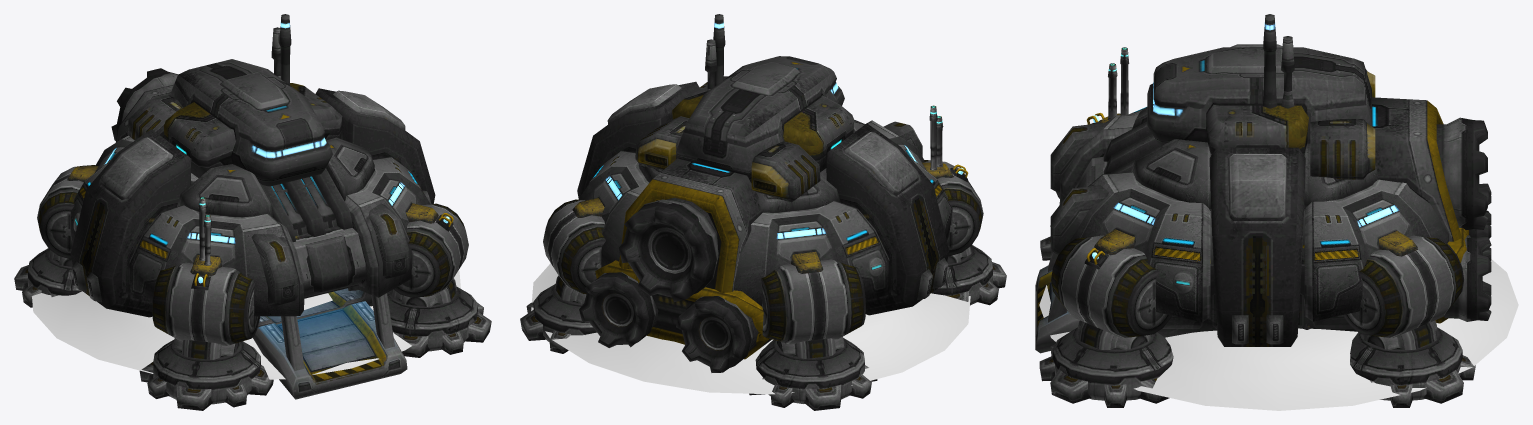
Rendered from CommandCenter_Umojan.glb.
3 renders of one model, left to right at view 1: azimuth 30°, elevation 25°; view 2: azimuth 150°, elevation 25°; view 3: azimuth 270°, elevation 25°, orthographic. The views are drawn at different scales.
Parts seen in each view (by area): view 1: Mesh.005, Sphere01distortion02, Mesh.002, Mesh.003; view 2: Mesh.005, Sphere01distortion02, Mesh.002; view 3: Mesh.005, Sphere01distortion02, Mesh.002.
Boxes of the visible parts, x1,y1,x2,y2 form: Mesh.005: [14, 14, 491, 410]; Sphere01distortion02: [32, 270, 460, 379]; Mesh.002: [198, 197, 211, 265]; Mesh.003: [191, 212, 453, 290]; Mesh.005: [520, 14, 1006, 410]; Sphere01distortion02: [531, 263, 970, 394]; Mesh.002: [929, 105, 943, 170]; Mesh.005: [1035, 14, 1491, 407]; Sphere01distortion02: [1039, 259, 1518, 410]; Mesh.002: [1107, 47, 1310, 329].
Size of the model in its own units: 5.61 by 4.06 by 5.41.
7 materials, 6 textured.
